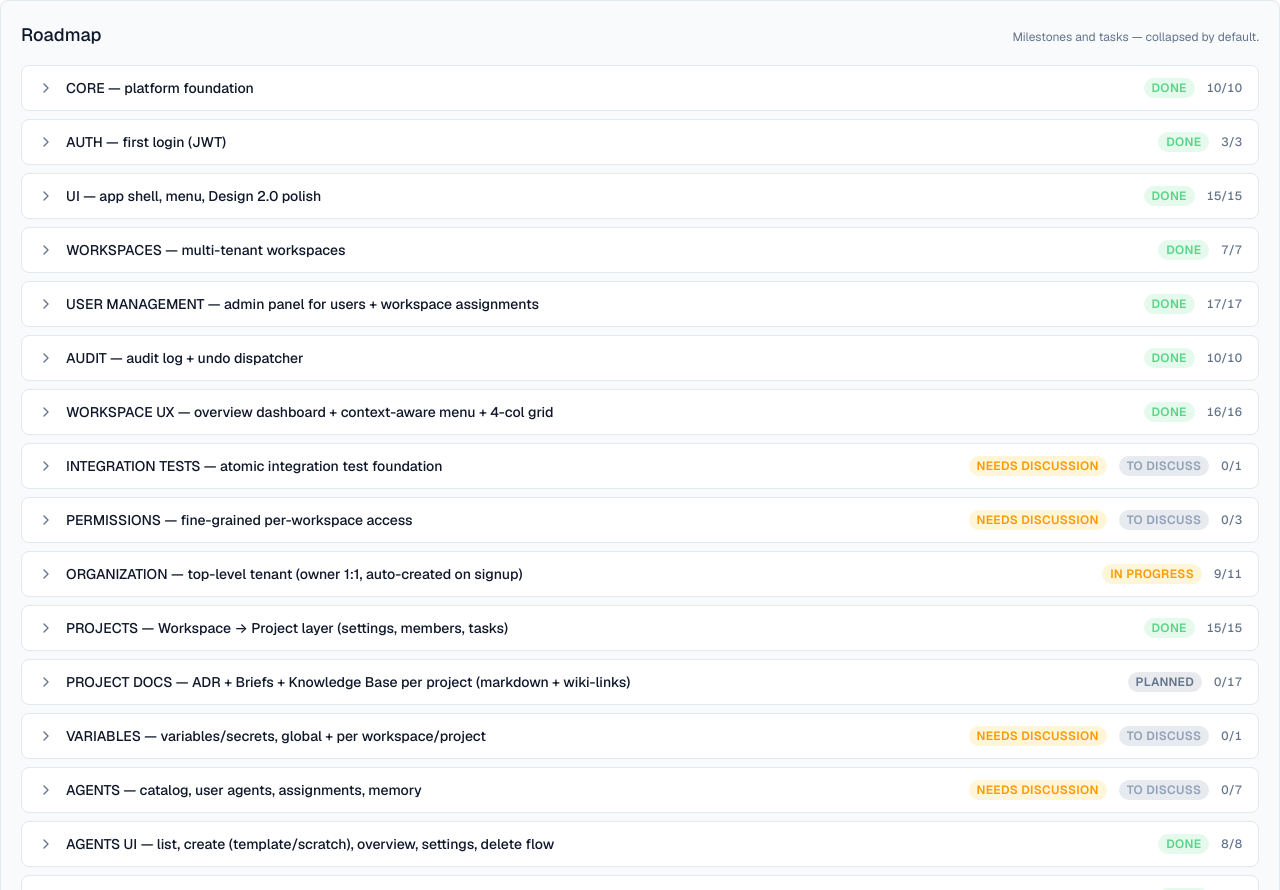
Test: RoadmapPanel › should expand a milestone to reveal its tasks when clicked
Click the text "CORE — platform foundation": (160,88) left=66, top=79, right=254, bottom=97
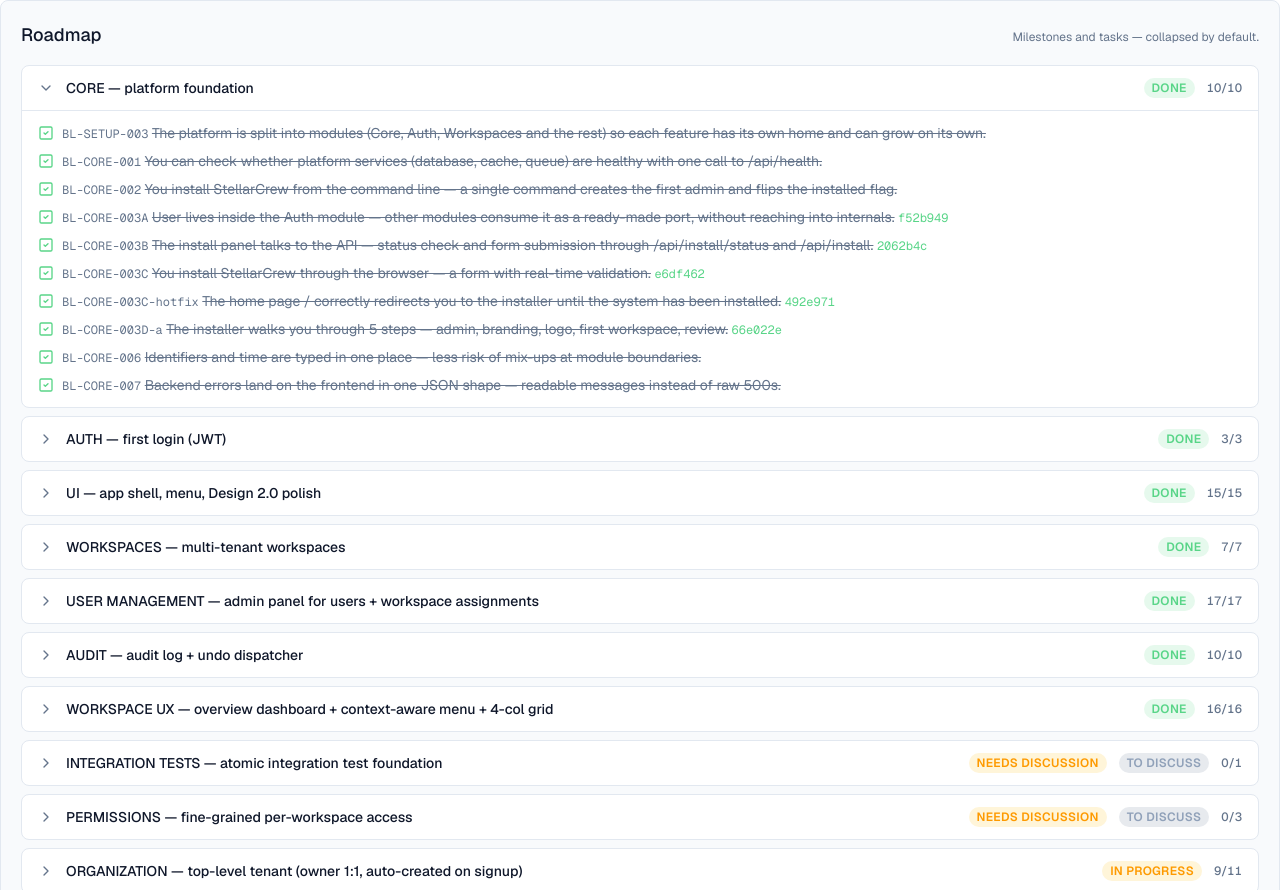
Now the text "BL-CORE-002" is shown, box left=62, top=182, right=141, bottom=198
Now the text "install StellarCrew from the command line" is shown, box left=145, top=180, right=897, bottom=198
